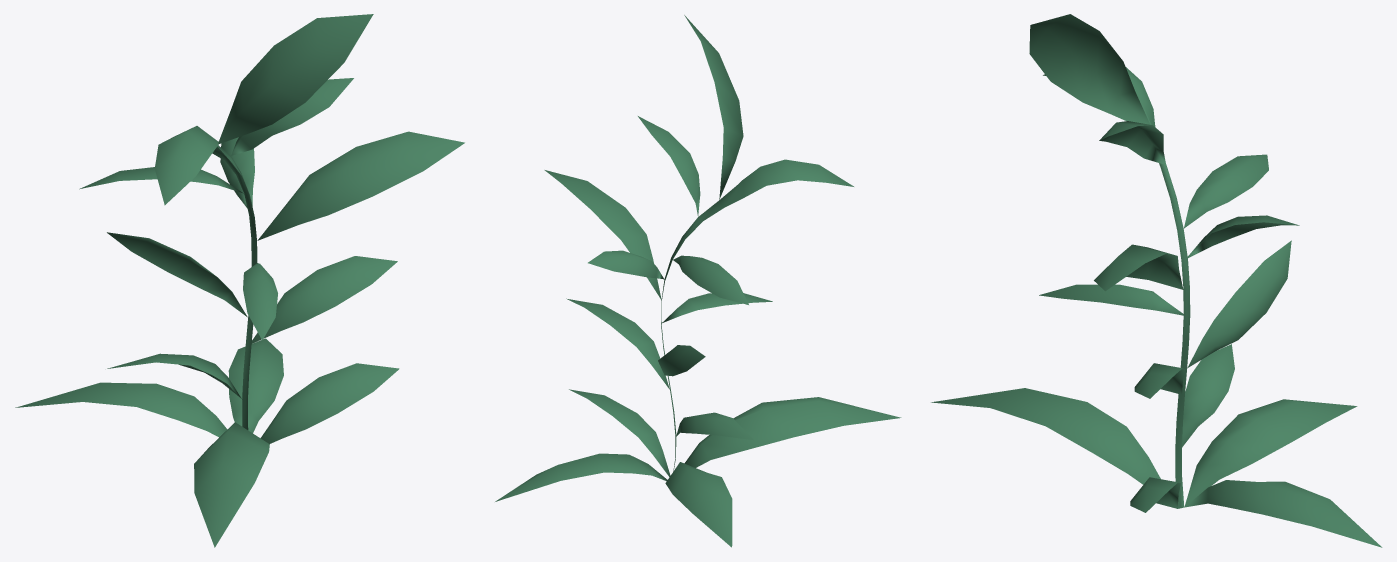
The model's file is Bean-Plant-S01A.fbx.
3 renders of one model, left to right at view 1: azimuth 30°, elevation 25°; view 2: azimuth 150°, elevation 25°; view 3: azimuth 270°, elevation 25°, orthographic. The views are drawn at different scales.
Visible parts, largest first — view 1: Bean-Plant-S01A; view 2: Bean-Plant-S01A; view 3: Bean-Plant-S01A.
Part boxes in pixels (<box>): Bean-Plant-S01A: <box>15,14,464,547</box>; Bean-Plant-S01A: <box>495,15,901,547</box>; Bean-Plant-S01A: <box>931,14,1382,547</box>.
Size of the model in its own units: 129 by 175 by 140.
